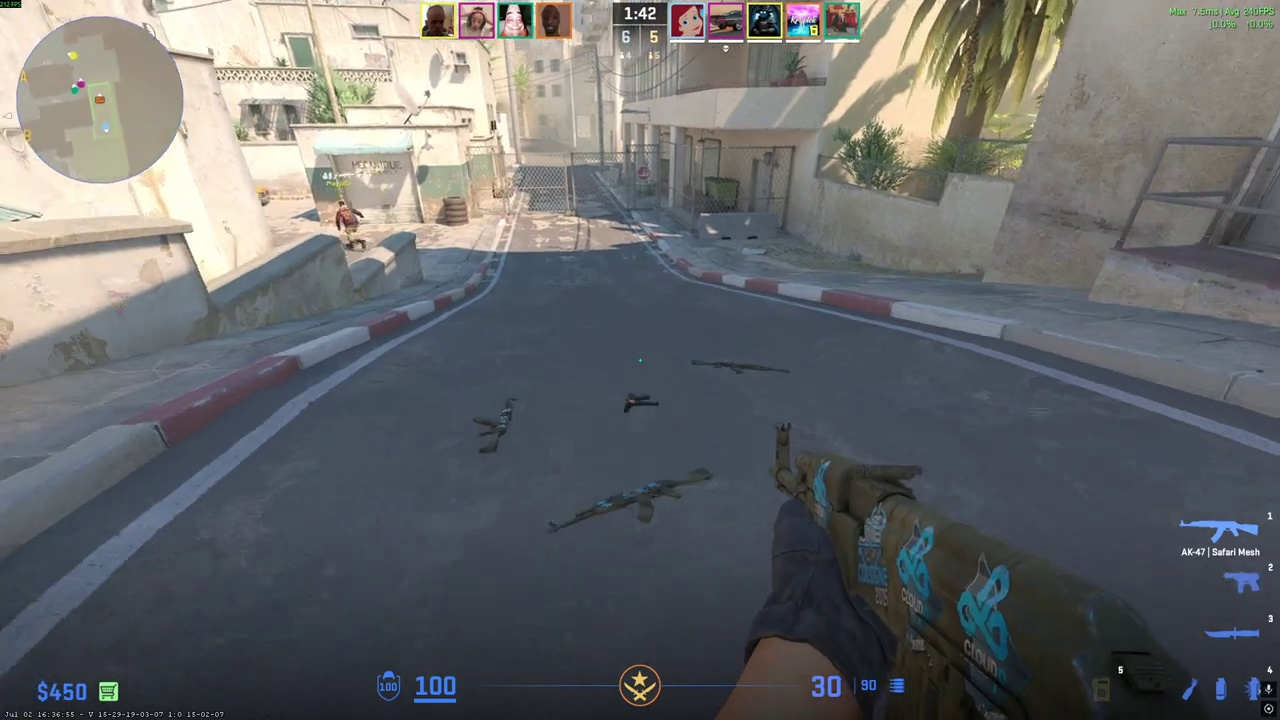Terrorist: (336, 201, 363, 250)
